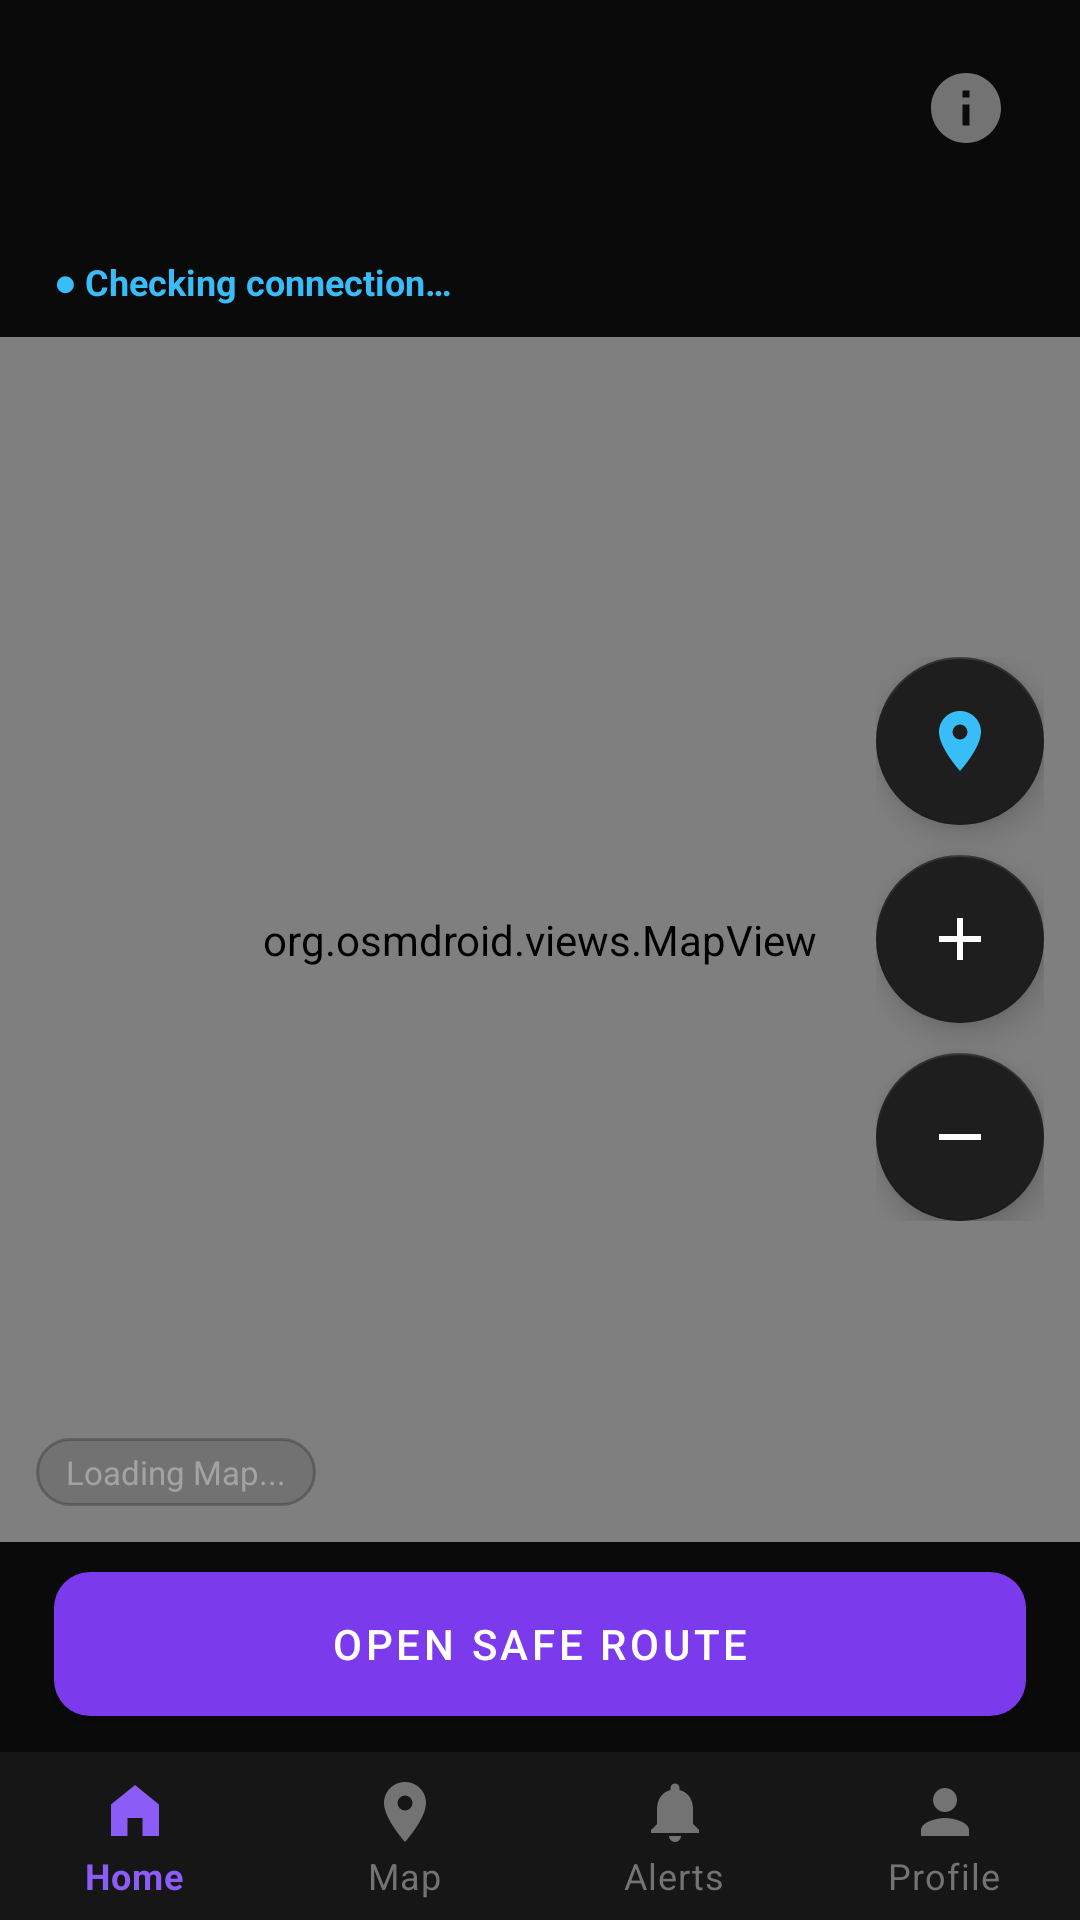

Icon bounding boxes for this 1080 × 1920 phone screenshot, format BBox(x1, y1, x2, y2):
Help: BBox(931, 73, 1001, 143)
My Location: BBox(876, 657, 1044, 825)
Zoom in: BBox(876, 855, 1044, 1023)
Zoom out: BBox(876, 1053, 1044, 1221)
